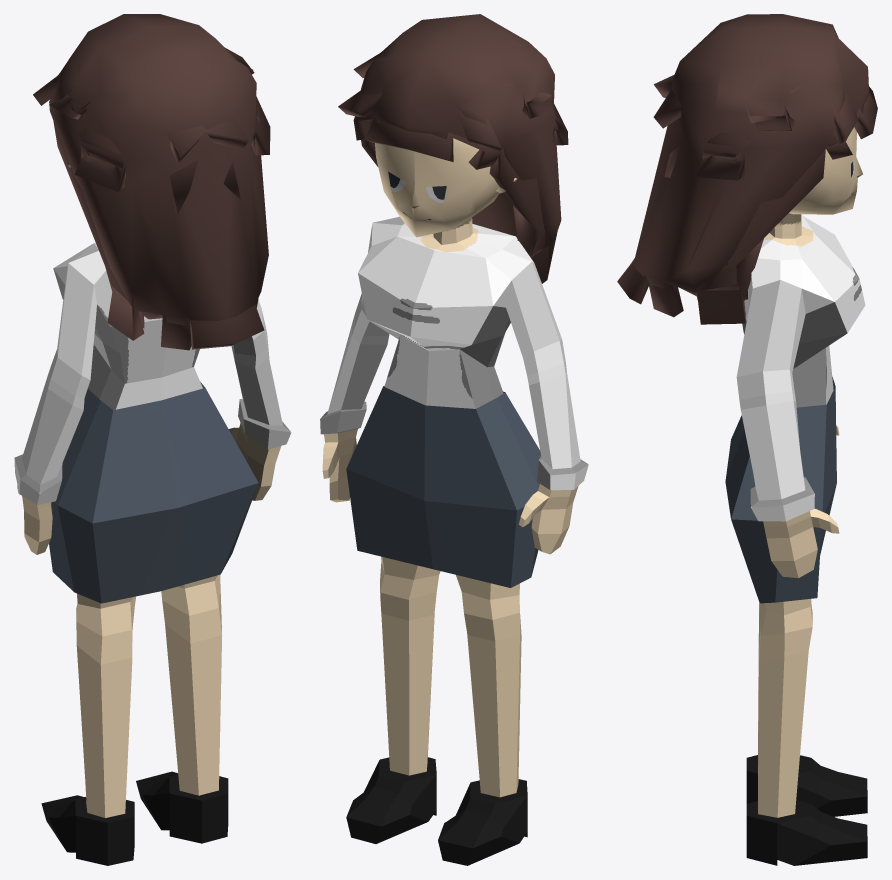
File: F LONG SHAGGY.glb
The picture shows the model from 3 angles, left to right: view 1: azimuth 30°, elevation 25°; view 2: azimuth 150°, elevation 25°; view 3: azimuth 270°, elevation 25°; orthographic projection. The views are drawn at different scales.
Parts seen in each view (by area): view 1: WOMEN OFFICE, LONG SHAGGY; view 2: WOMEN OFFICE, LONG SHAGGY, WOMEN HEAD; view 3: WOMEN OFFICE, LONG SHAGGY, WOMEN HEAD.
Boxes of the visible parts, x1=… form: WOMEN OFFICE: x1=14, y1=242, x2=291, y2=865; LONG SHAGGY: x1=33, y1=14, x2=270, y2=350; WOMEN OFFICE: x1=320, y1=216, x2=588, y2=865; LONG SHAGGY: x1=338, y1=14, x2=568, y2=283; WOMEN HEAD: x1=375, y1=138, x2=499, y2=237; WOMEN OFFICE: x1=725, y1=213, x2=867, y2=865; LONG SHAGGY: x1=617, y1=14, x2=877, y2=324; WOMEN HEAD: x1=789, y1=127, x2=862, y2=214.
Bounding box in the file's own units: 3.07 × 9.25 × 2.72.
Materials: 4 (4 with a texture image).
